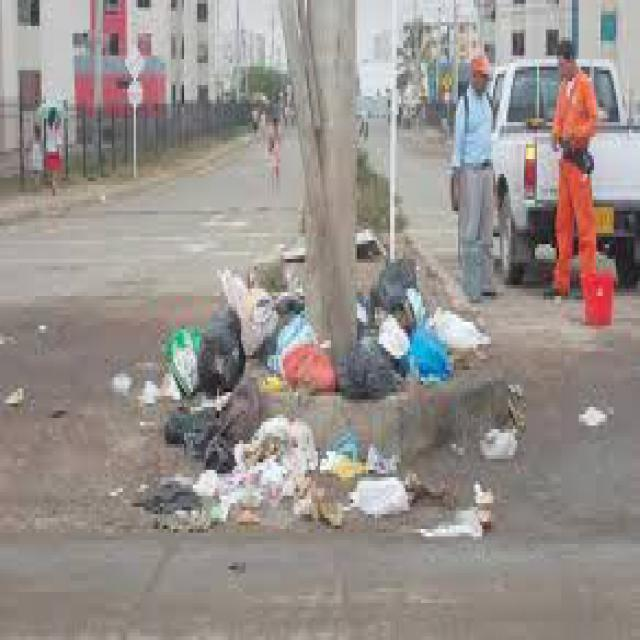Trashbag: (160, 378, 264, 473), (195, 308, 248, 394), (366, 252, 424, 318), (350, 336, 404, 398)
